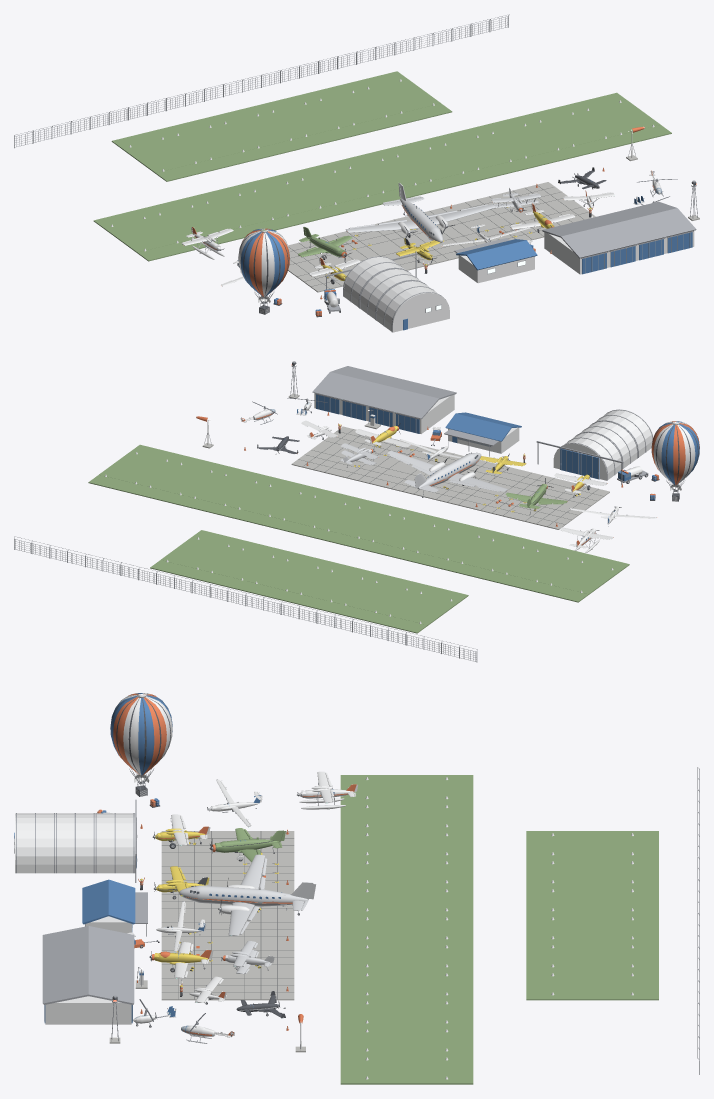
Rendered from aircraft-fleet-and-airfield-club-grass-strip-ba5be97f__32845.glb.
The picture shows the model from 3 angles, top to bottom: view 1: azimuth 30°, elevation 25°; view 2: azimuth 150°, elevation 25°; view 3: azimuth 270°, elevation 25°; orthographic projection. The views are drawn at different scales.
Parts seen in each view (by area): view 1: 034-t-hangar-row/1, 011-grass-strip/0, 000-grass-strip/0, 016-grass-strip/0, 009-grass-strip/0, 006-grass-strip/0, 003-grass-strip/0, 013-grass-strip/0, 014-grass-strip/0, 007-grass-strip/0, 008-grass-strip/0, 012-grass-strip/0 (+32 smaller); view 2: 034-t-hangar-row/1, 011-grass-strip/0, 000-grass-strip/0, 002-grass-strip/0, 005-grass-strip/0, 012-grass-strip/0, 001-grass-strip/0, 006-grass-strip/0, 009-grass-strip/0, 013-grass-strip/0, 016-grass-strip/0, 003-grass-strip/0 (+31 smaller); view 3: 034-t-hangar-row/1, 010-grass-strip/0, 016-grass-strip/0, 005-grass-strip/0, 006-grass-strip/0, 007-grass-strip/0, 008-grass-strip/0, 009-grass-strip/0, 014-grass-strip/0, 015-grass-strip/0, 004-grass-strip/0, 003-grass-strip/0 (+30 smaller).
Boxes of the visible parts, x1,y1,x2,y2 form: 034-t-hangar-row/1: (542,201,696,273); 011-grass-strip/0: (111,129,214,181); 000-grass-strip/0: (93,209,195,261); 016-grass-strip/0: (350,71,452,123); 009-grass-strip/0: (522,104,624,156); 006-grass-strip/0: (379,139,481,191); 003-grass-strip/0: (236,174,338,226); 013-grass-strip/0: (207,106,309,158); 014-grass-strip/0: (255,94,356,146); 007-grass-strip/0: (427,127,529,179); 008-grass-strip/0: (474,116,576,168); 012-grass-strip/0: (160,117,261,170); 034-t-hangar-row/1: (312,366,456,432); 011-grass-strip/0: (372,584,468,633); 000-grass-strip/0: (534,553,629,602); 002-grass-strip/0: (444,531,540,580); 005-grass-strip/0: (311,499,406,548); 012-grass-strip/0: (328,573,423,622); 001-grass-strip/0: (489,542,584,591); 006-grass-strip/0: (266,488,361,537); 009-grass-strip/0: (133,455,228,504); 013-grass-strip/0: (283,562,379,611); 016-grass-strip/0: (150,530,245,579); 003-grass-strip/0: (400,520,495,569); 034-t-hangar-row/1: (42,926,134,1021); 010-grass-strip/0: (340,1055,473,1084); 016-grass-strip/0: (526,971,658,1000); 005-grass-strip/0: (340,915,473,943); 006-grass-strip/0: (340,943,473,971); 007-grass-strip/0: (340,971,473,999); 008-grass-strip/0: (340,999,473,1027); 009-grass-strip/0: (340,1027,473,1055); 014-grass-strip/0: (526,915,658,943); 015-grass-strip/0: (526,943,658,971); 004-grass-strip/0: (340,887,473,915); 003-grass-strip/0: (340,859,473,887).
Size of the model in its own units: 110 by 17.02 by 103.
